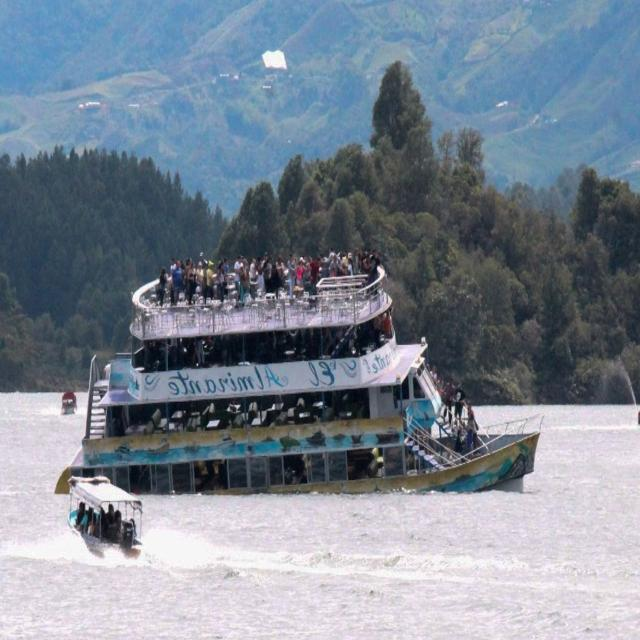houseboat: (59, 466, 152, 566)
passenger ship: (54, 246, 554, 490)
